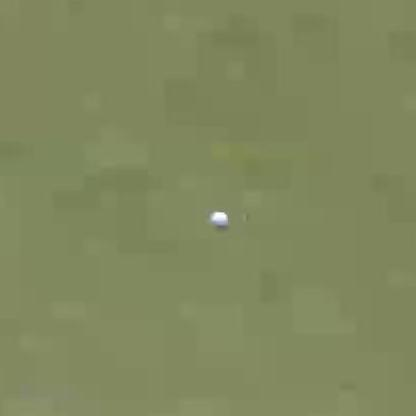golfball: (207, 207, 227, 229)
